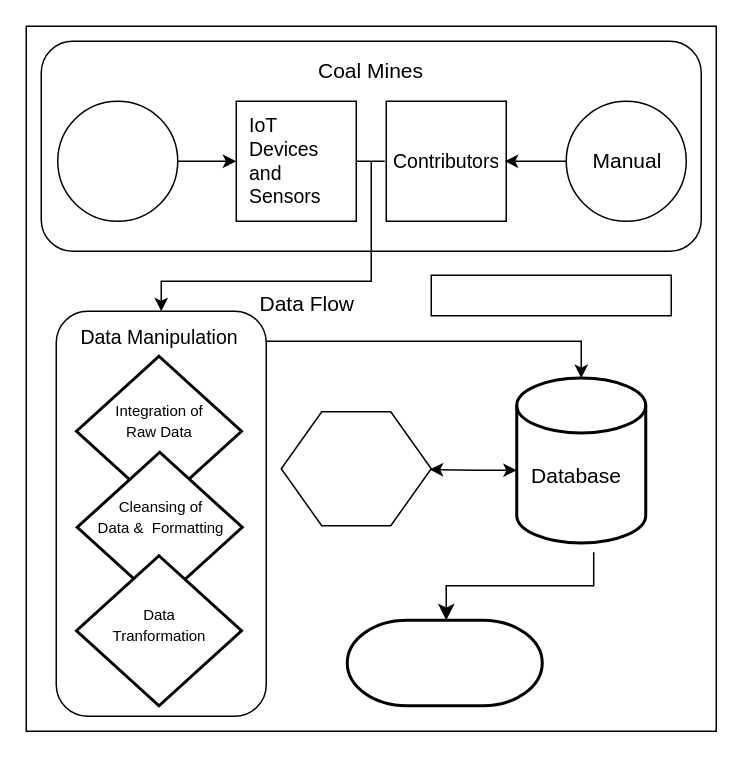
Image size: 743x758. Some labels were removed from this diagram. The centre of each missing label's shape, as x and y in pixels:
"Architecture Diagram" belongs at pixel 550 295.
"Automatic" belongs at pixel 117 160.
"ML Model" belongs at pixel 355 468.
"Web Application" belongs at pixel 444 662.
